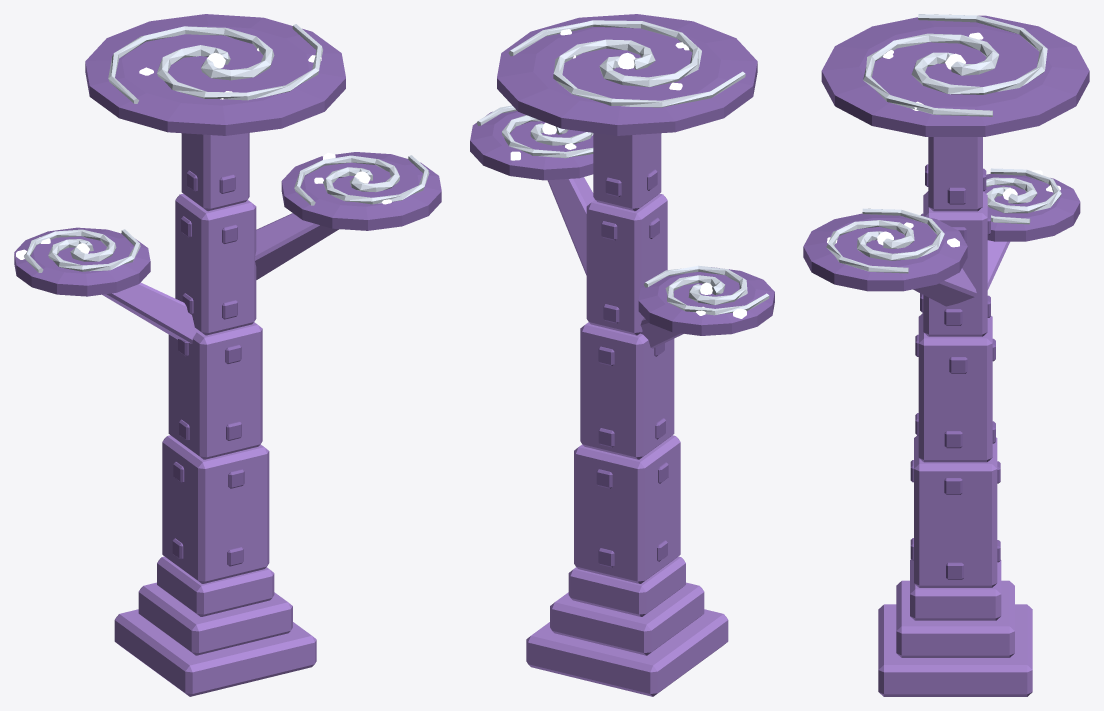
Rendered from NarmekGalaxyTree.fbx.
3 renders of one model, left to right at view 1: azimuth 30°, elevation 25°; view 2: azimuth 150°, elevation 25°; view 3: azimuth 270°, elevation 25°, orthographic.
Visible parts, largest first — view 1: NarmekGalaxyTree.Trunk, NarmekGalaxyTree.Discs, NarmekGalaxyTree.Arms, NarmekGalaxyTree.TrunkStuds; view 2: NarmekGalaxyTree.Trunk, NarmekGalaxyTree.Discs, NarmekGalaxyTree.Arms, NarmekGalaxyTree.TrunkStuds, NarmekGalaxyTree.Stars, NarmekGalaxyTree.Cores; view 3: NarmekGalaxyTree.Trunk, NarmekGalaxyTree.Discs, NarmekGalaxyTree.Arms, NarmekGalaxyTree.TrunkStuds.
Boxes of the visible parts, x1,y1,x2,y2 form: NarmekGalaxyTree.Trunk: (102,133,339,696); NarmekGalaxyTree.Discs: (14,14,441,296); NarmekGalaxyTree.Arms: (24,24,429,272); NarmekGalaxyTree.TrunkStuds: (172,170,244,566); NarmekGalaxyTree.Trunk: (526,133,728,696); NarmekGalaxyTree.Discs: (470,14,774,335); NarmekGalaxyTree.Arms: (476,20,769,315); NarmekGalaxyTree.TrunkStuds: (596,169,668,567); NarmekGalaxyTree.Stars: (510,29,746,318); NarmekGalaxyTree.Cores: (542,52,712,294); NarmekGalaxyTree.Trunk: (878,137,1032,696); NarmekGalaxyTree.Discs: (803,15,1089,291); NarmekGalaxyTree.Arms: (826,14,1061,273); NarmekGalaxyTree.TrunkStuds: (910,164,1000,579).
Bounding box in the file's own units: 6.64 × 11.11 × 4.7.
